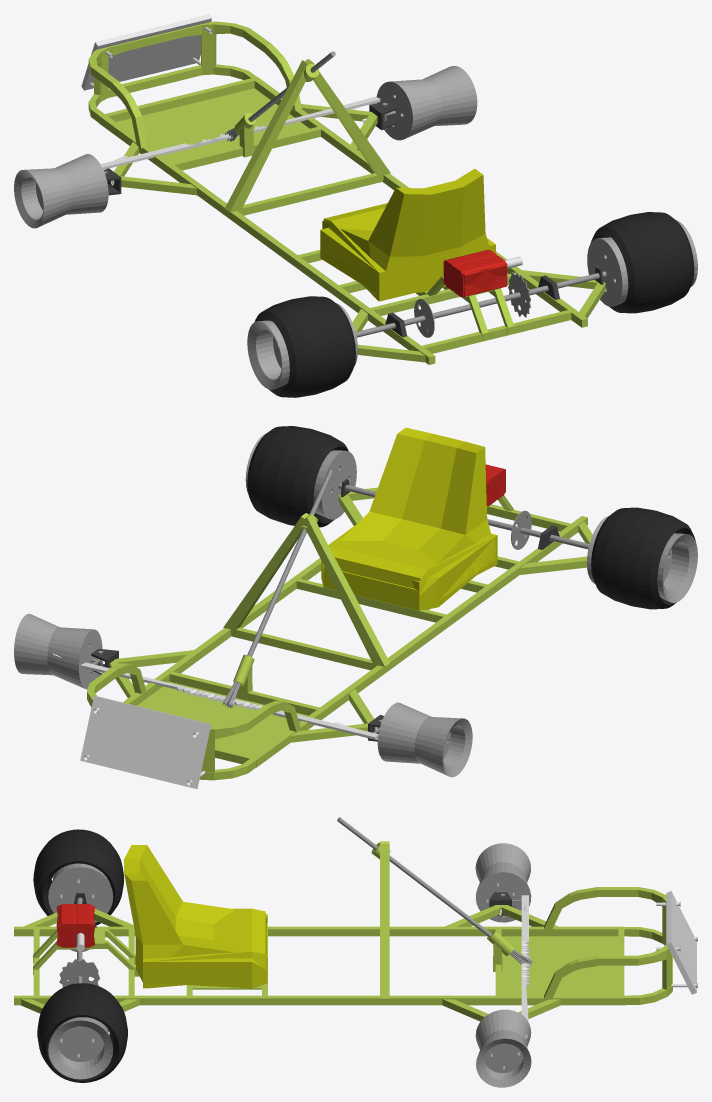
The model's file is solidWorksGoKartTest2.fbx.
3 renders of one model, top to bottom at view 1: azimuth 30°, elevation 25°; view 2: azimuth 150°, elevation 25°; view 3: azimuth 270°, elevation 25°, orthographic. The views are drawn at different scales.
Visible parts, largest first — view 1: Frame, Seat, rearTire01, rearTire, frontLeftWheel.001, frontLeftWheel.000, signHolder, rearLeftWheel, electricEngine, rearRightWheel, steeringRack, rearAxis (+1 smaller); view 2: Frame, Seat, signHolder, rearTire01, rearTire, frontLeftWheel.001, frontLeftWheel.000, rearLeftWheel, rearRightWheel, steeringRack, BoxTube, rearAxis (+2 smaller); view 3: Frame, Seat, rearTire, rearTire01, frontLeftWheel.000, rearRightWheel, frontLeftWheel.001, rearLeftWheel, signHolder, electricEngine, BoxTube, steeringRack (+1 smaller).
Part boxes in pixels (x1,y1,x2,y2): Frame: (88, 21, 605, 364); Seat: (320, 168, 495, 301); rearTire01: (254, 296, 355, 397); rearTire: (591, 212, 694, 313); frontLeftWheel.001: (14, 154, 108, 228); frontLeftWheel.000: (376, 66, 477, 140); signHolder: (81, 14, 211, 90); rearLeftWheel: (247, 303, 357, 389); electricEngine: (443, 250, 507, 297); rearRightWheel: (587, 220, 697, 306); steeringRack: (100, 96, 380, 169); rearAxis: (355, 271, 606, 337); Frame: (87, 487, 592, 780); Seat: (321, 427, 497, 610); signHolder: (80, 696, 211, 788); rearTire01: (591, 507, 695, 609); rearTire: (247, 426, 348, 527); frontLeftWheel.001: (377, 702, 472, 777); frontLeftWheel.000: (14, 614, 102, 689); rearLeftWheel: (587, 516, 697, 602); rearRightWheel: (245, 433, 356, 519); steeringRack: (81, 662, 378, 739); BoxTube: (222, 469, 333, 708); rearAxis: (338, 483, 589, 549); Frame: (14, 841, 672, 1021); Seat: (124, 845, 267, 988); rearTire: (37, 983, 127, 1082); rearTire01: (33, 829, 124, 925); frontLeftWheel.000: (475, 1009, 531, 1087); rearRightWheel: (48, 1017, 113, 1079); frontLeftWheel.001: (475, 843, 531, 922); rearLeftWheel: (48, 863, 113, 922); signHolder: (666, 891, 696, 994); electricEngine: (56, 904, 94, 947); BoxTube: (337, 817, 532, 965); steeringRack: (521, 895, 530, 1022).
Size of the model in its own units: 251 by 108 by 372.
